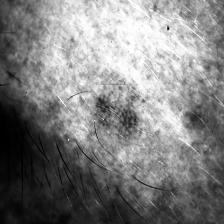Benign Marking or Mole: (90, 83, 148, 137)
